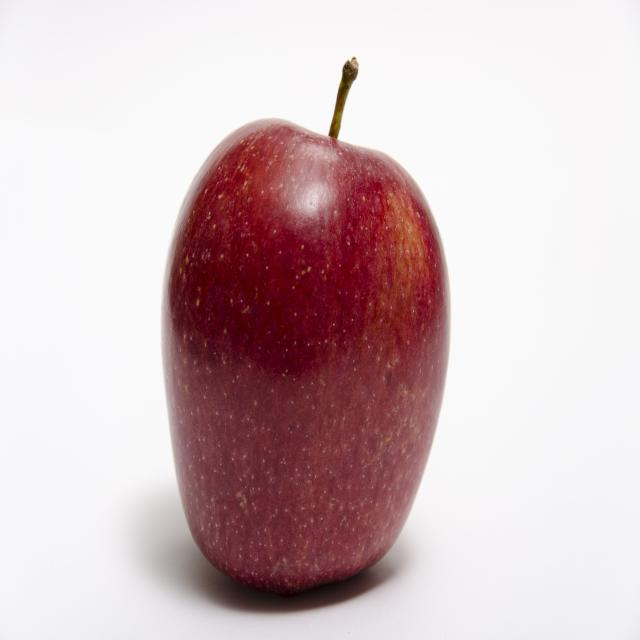Apple: (156, 59, 458, 603)
